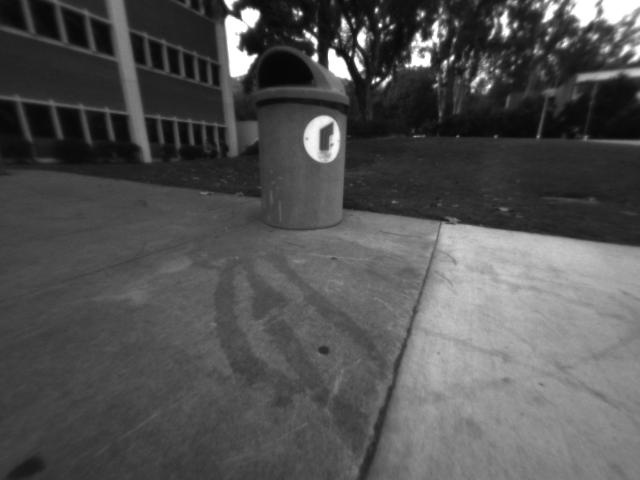trashcan: (249, 44, 349, 234)
